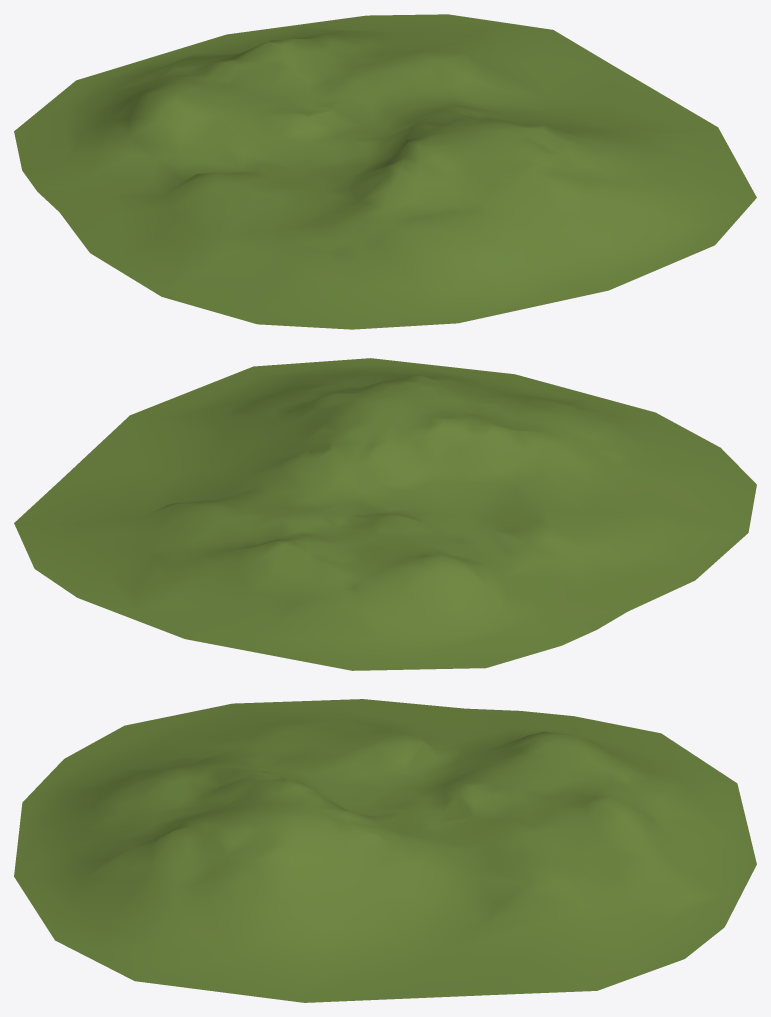
The model's file is rpgpp_ag_hill_background_08.fbx.
3 renders of one model, top to bottom at view 1: azimuth 30°, elevation 25°; view 2: azimuth 150°, elevation 25°; view 3: azimuth 270°, elevation 25°, orthographic. The views are drawn at different scales.
Visible parts, largest first — view 1: rpgpp_ag_hill_background_04; view 2: rpgpp_ag_hill_background_04; view 3: rpgpp_ag_hill_background_04.
Boxes of the visible parts, left/top/right/bottom form: rpgpp_ag_hill_background_04: left=14, top=14, right=756, bottom=329; rpgpp_ag_hill_background_04: left=14, top=358, right=756, bottom=670; rpgpp_ag_hill_background_04: left=14, top=699, right=756, bottom=1002.
Size of the model in its own units: 110 by 11.24 by 113.
